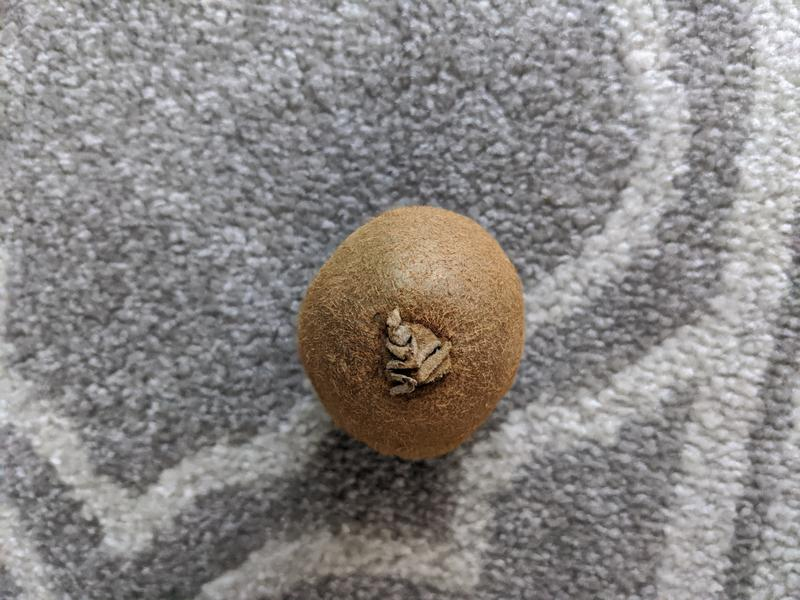kiwi: (299, 205, 525, 459)
